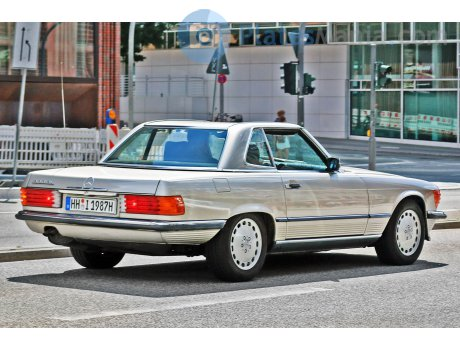License Plates: (64, 193, 115, 213)
